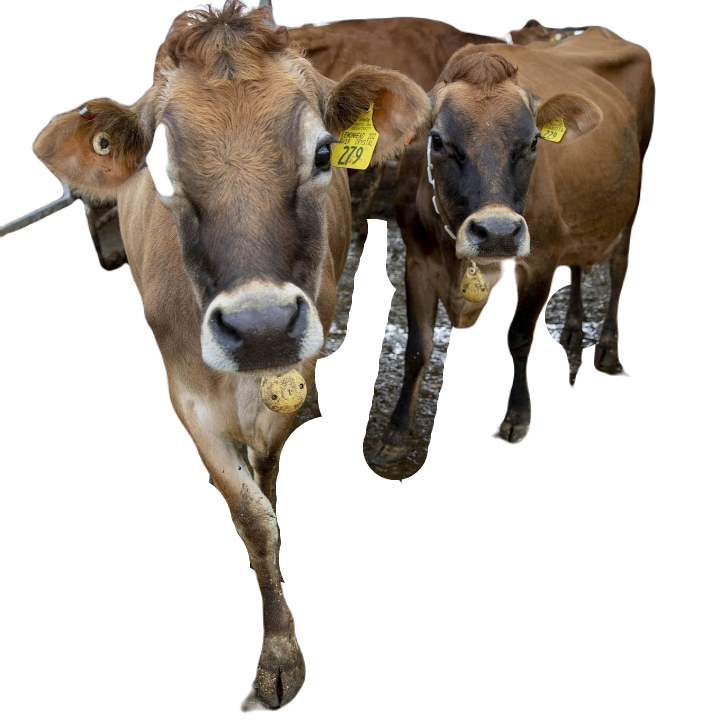Cow: (341, 20, 685, 472)
